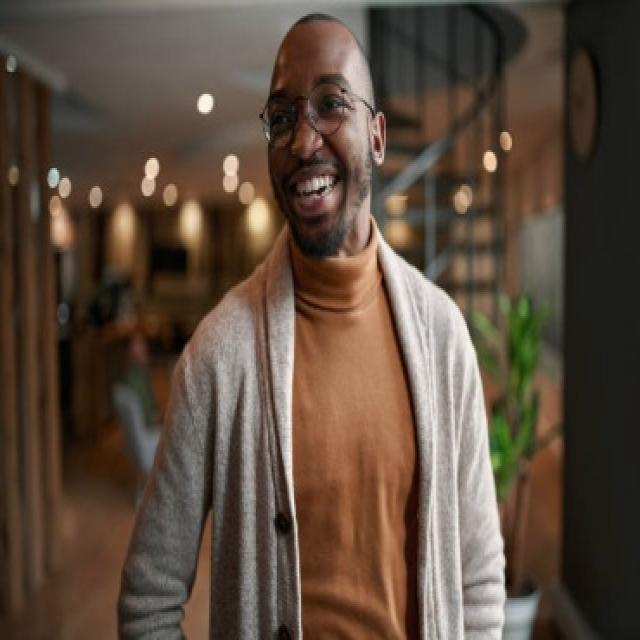adult: (119, 10, 512, 640)
